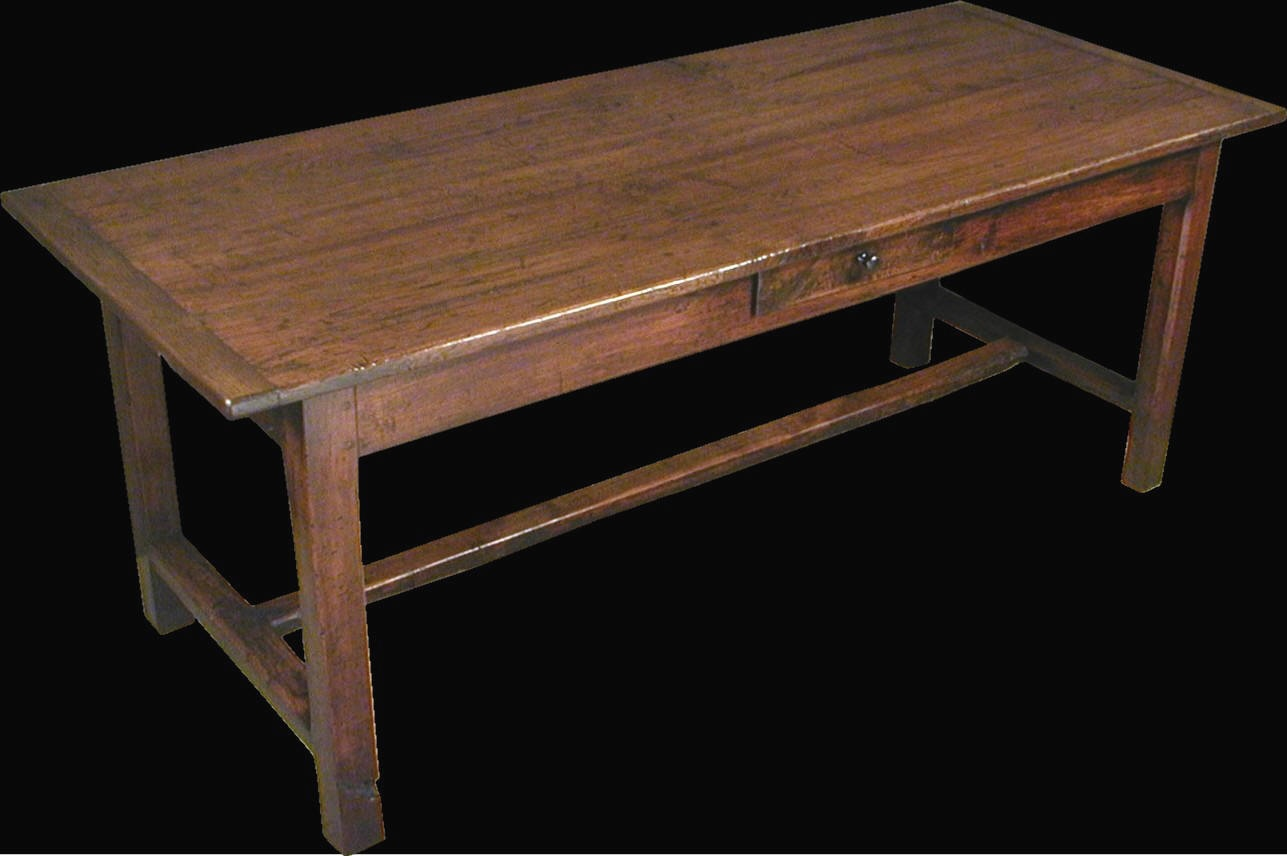obstacle: (369, 123, 1286, 851), (0, 210, 329, 852), (0, 0, 935, 190), (979, 0, 1286, 106)
